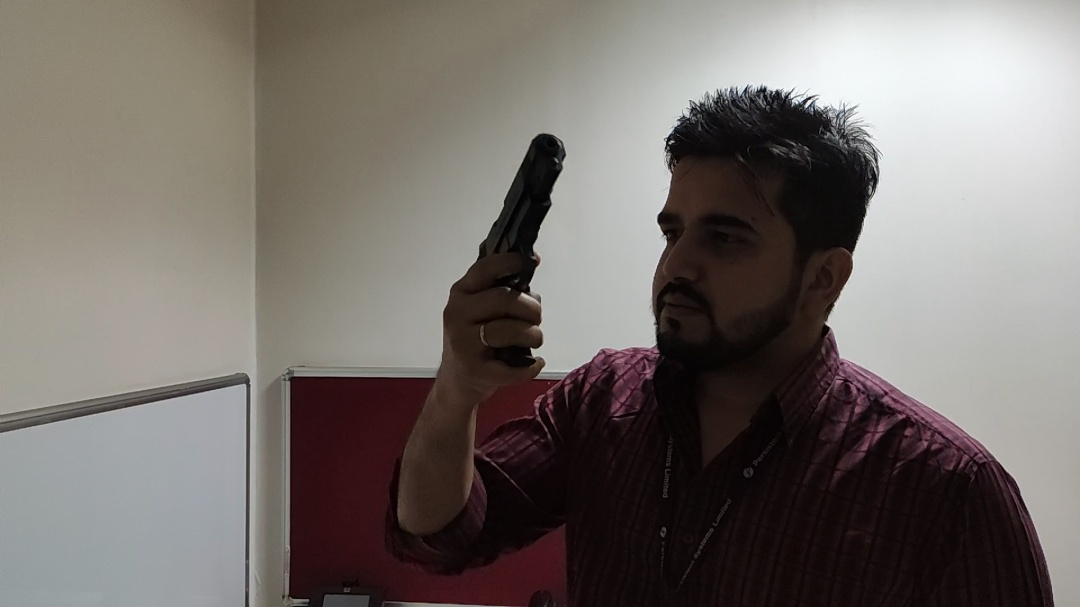gun: (478, 132, 568, 370)
